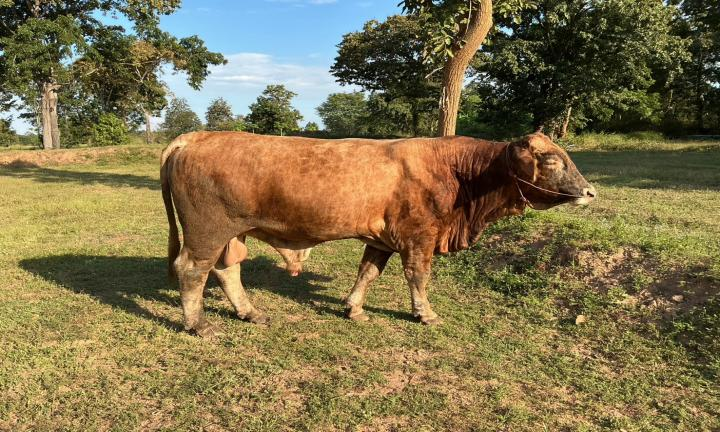Charolais: (161, 131, 596, 336)
